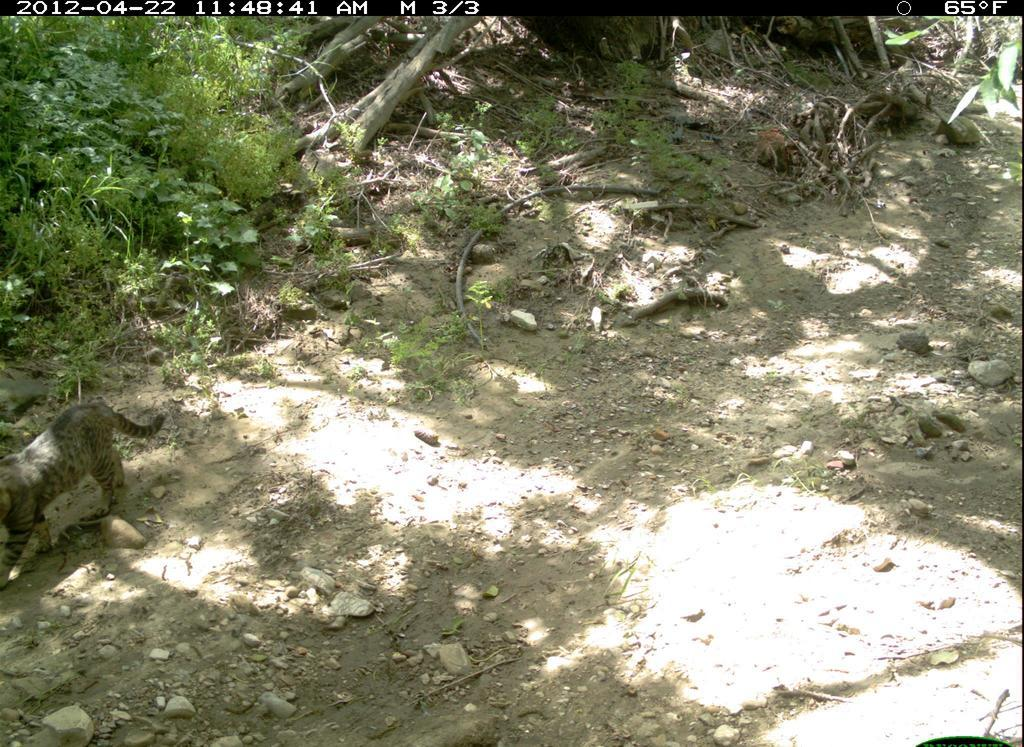cat: (1, 381, 177, 595)
